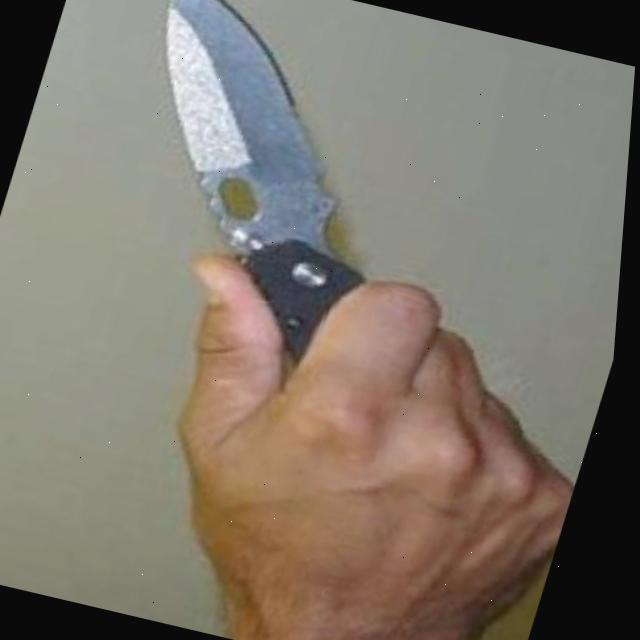knife: (73, 0, 444, 371)
